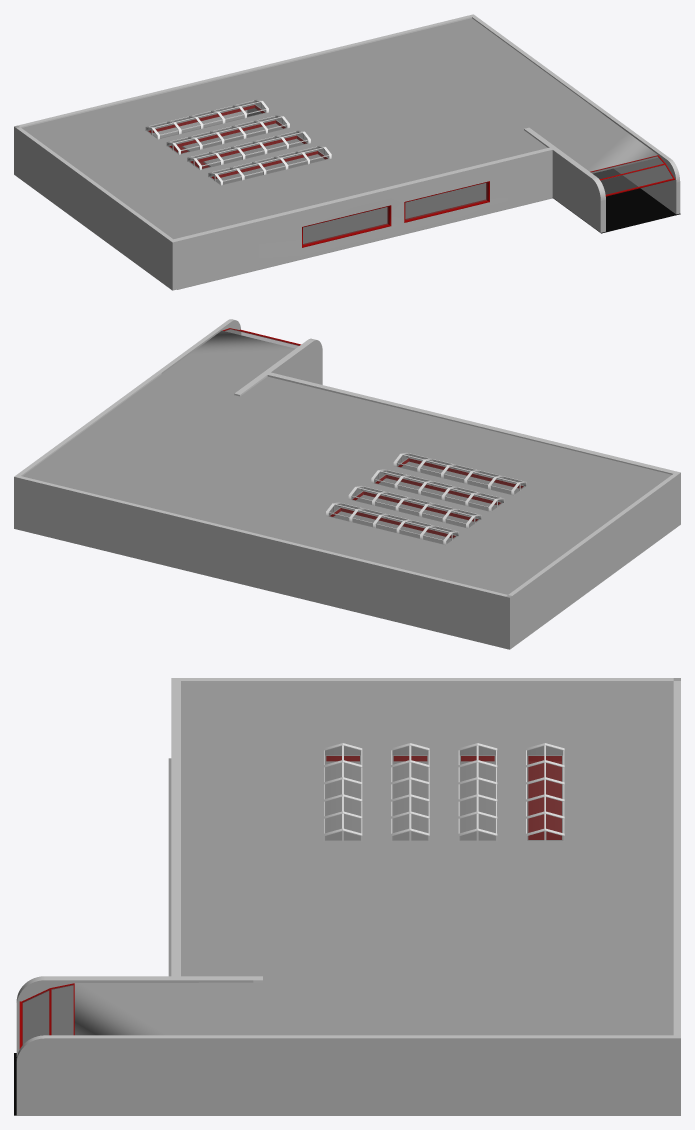
The model's file is Supermarket2.4.fbx.
The picture shows the model from 3 angles, top to bottom: view 1: azimuth 30°, elevation 25°; view 2: azimuth 150°, elevation 25°; view 3: azimuth 270°, elevation 25°; orthographic projection. The views are drawn at different scales.
Visible parts, largest first — view 1: Roof3, Walls, Floor2, big_window_2, big_window_1, Win_1, Win_2, Frame; view 2: Roof3, Walls, Floor2; view 3: Roof3, Walls, Floor2, Win_1, Win_2.
Part boxes in pixels (x1=…): Roof3: x1=22, y1=18, x2=657, y2=239; Walls: x1=14, y1=14, x2=680, y2=290; Floor2: x1=174, y1=123, x2=680, y2=289; big_window_2: x1=303, y1=207, x2=388, y2=244; big_window_1: x1=405, y1=182, x2=487, y2=219; Win_1: x1=600, y1=164, x2=672, y2=194; Win_2: x1=591, y1=156, x2=663, y2=178; Frame: x1=590, y1=155, x2=675, y2=196; Roof3: x1=22, y1=330, x2=671, y2=594; Walls: x1=14, y1=319, x2=680, y2=649; Floor2: x1=333, y1=461, x2=519, y2=543; Roof3: x1=74, y1=683, x2=673, y2=1035; Walls: x1=16, y1=678, x2=680, y2=1115; Floor2: x1=14, y1=758, x2=561, y2=1115; Win_1: x1=22, y1=990, x2=49, y2=1044; Win_2: x1=51, y1=984, x2=73, y2=1035.
Bounding box in the file's own units: 35.3 × 3.99 × 27.61.
